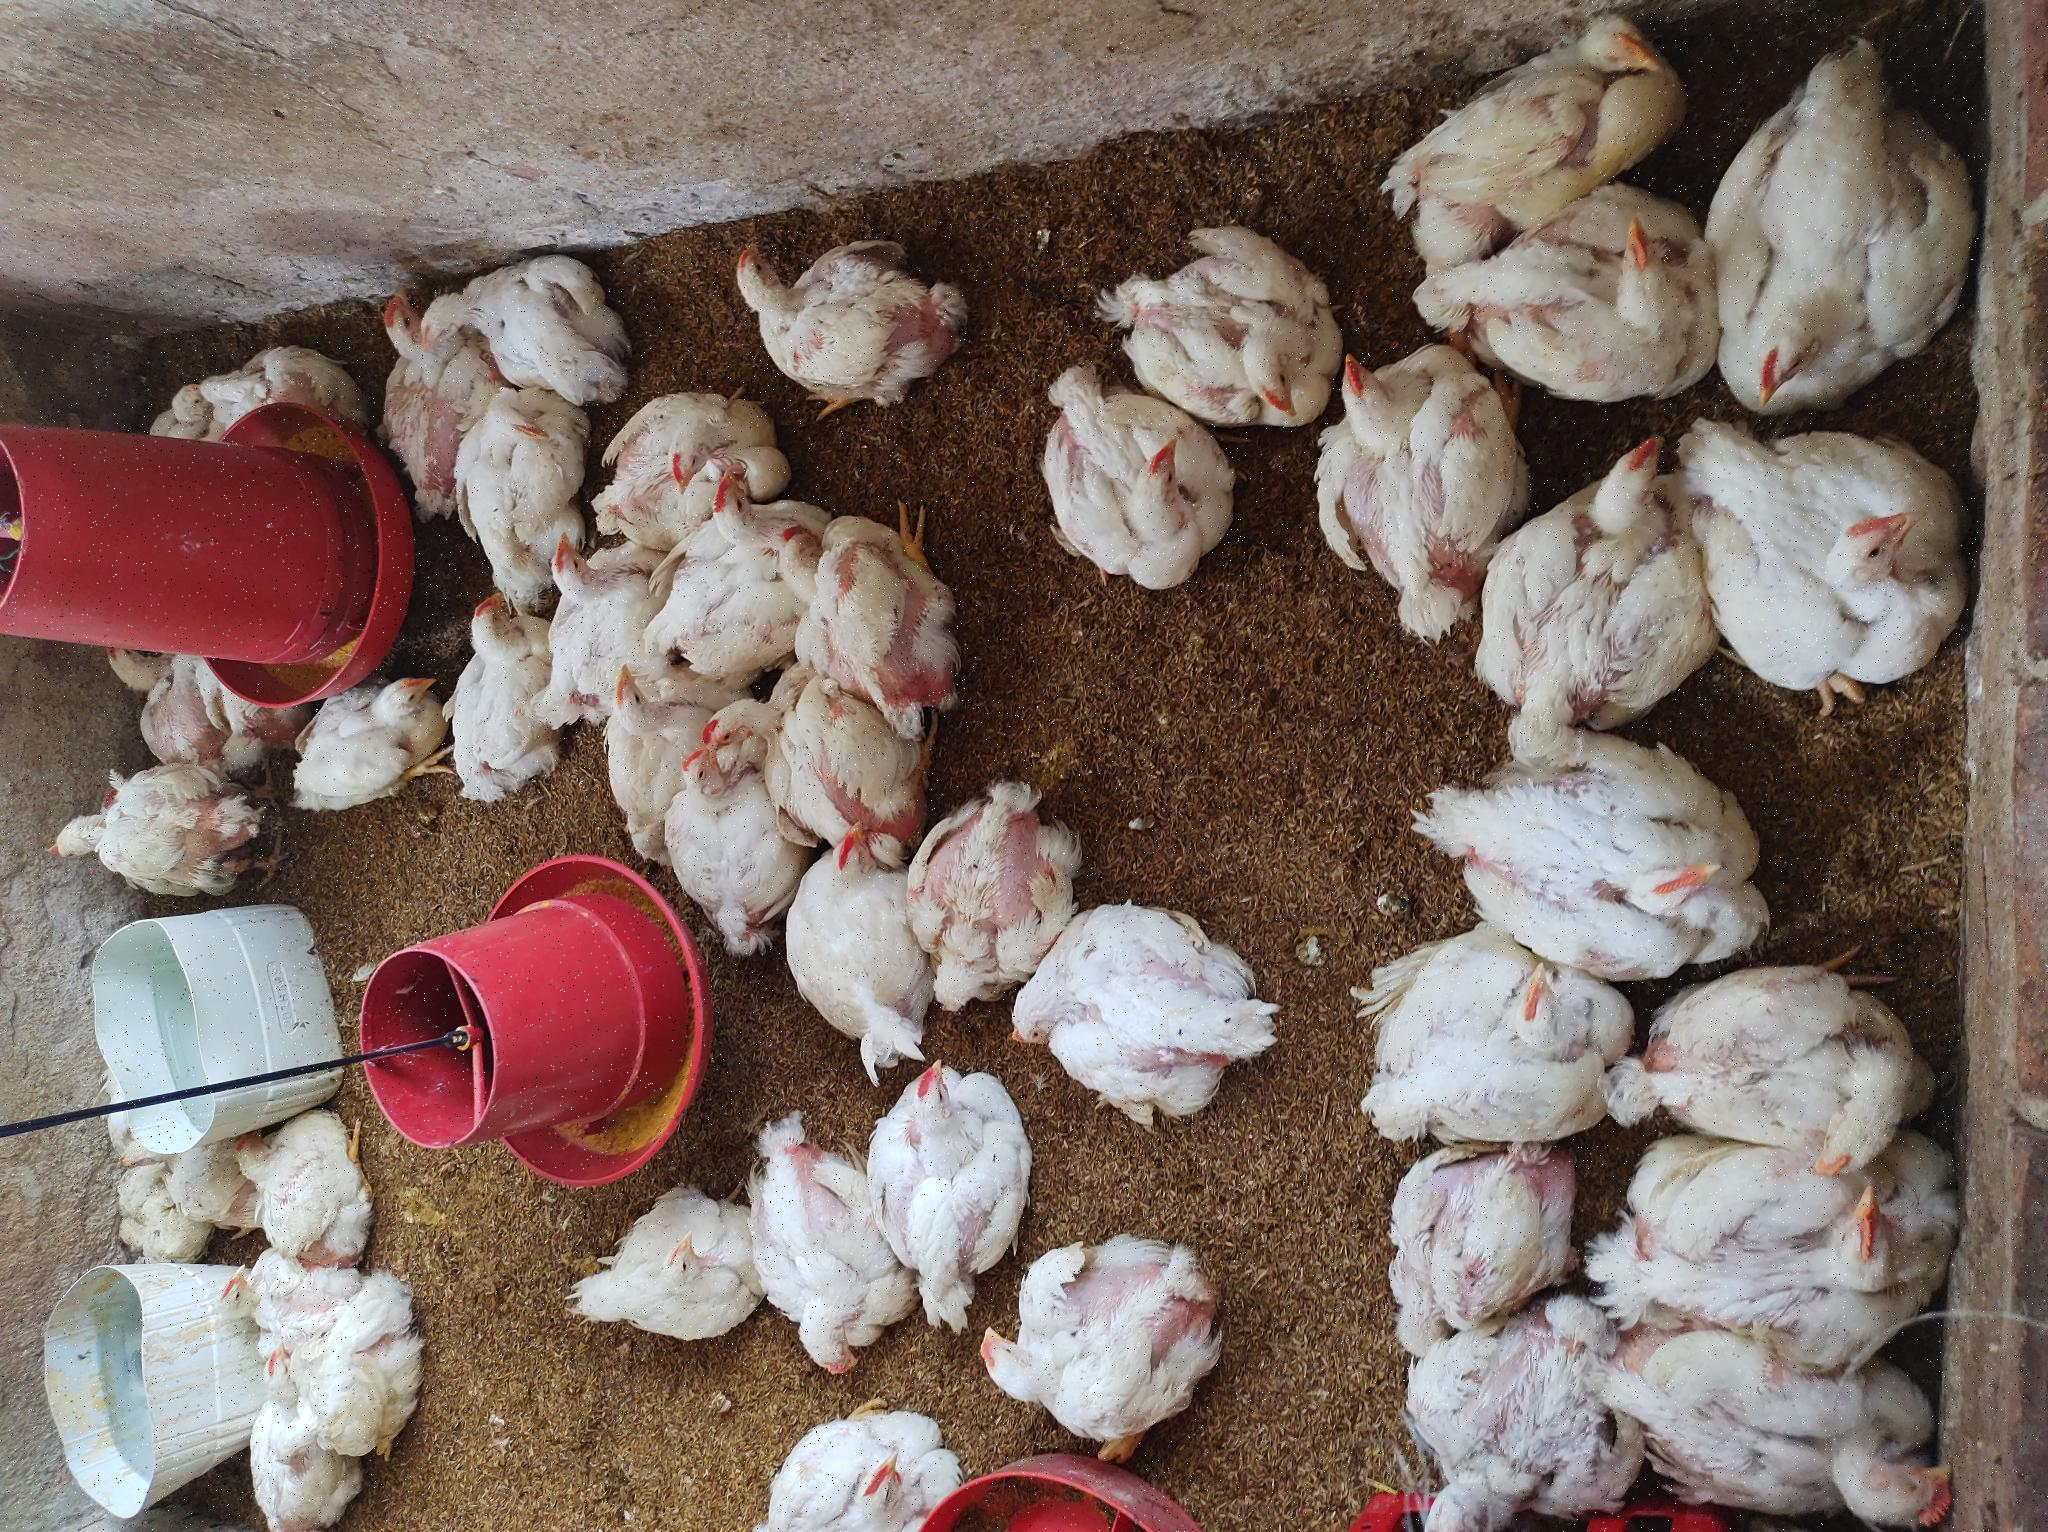Pollos: (412, 1003, 640, 1291), (84, 975, 304, 1246), (911, 1321, 1211, 1509), (1100, 1080, 1334, 1321), (1141, 724, 1319, 975), (524, 908, 767, 1086), (145, 737, 417, 885), (183, 1361, 407, 1532), (479, 764, 709, 925), (822, 785, 1026, 966), (385, 1349, 582, 1532), (3, 1366, 219, 1532), (1293, 1389, 1533, 1532), (960, 1015, 1126, 1218), (216, 904, 475, 1020), (51, 286, 245, 430), (187, 571, 352, 737), (706, 278, 870, 443), (861, 652, 1044, 797), (2, 752, 129, 957), (653, 40, 766, 262), (1168, 417, 1285, 626), (581, 661, 785, 780), (788, 1456, 1097, 1532), (734, 713, 849, 914), (742, 446, 956, 554), (766, 105, 903, 262), (277, 233, 428, 375), (988, 463, 1154, 584), (592, 1426, 780, 1532), (1139, 1460, 1367, 1532), (857, 549, 993, 653), (1023, 599, 1142, 711), (1113, 206, 1186, 360), (314, 108, 396, 235), (1034, 380, 1256, 426), (782, 599, 866, 702), (199, 217, 290, 299), (1094, 142, 1157, 208), (125, 241, 182, 306)
